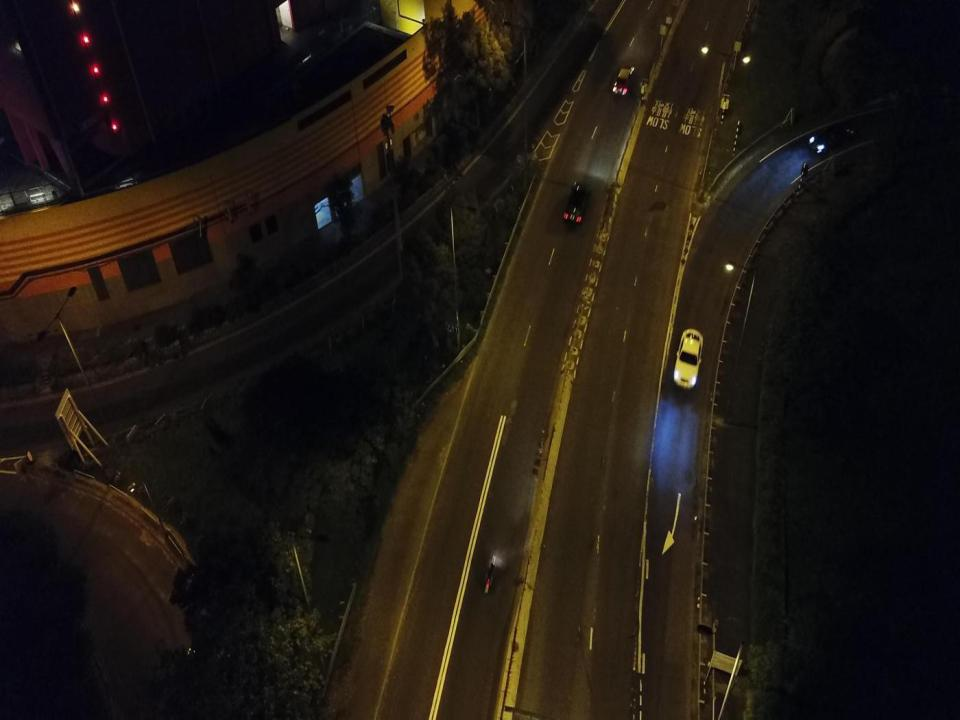car: (674, 327, 704, 393), (807, 120, 854, 150), (564, 179, 590, 227), (612, 57, 636, 100)
